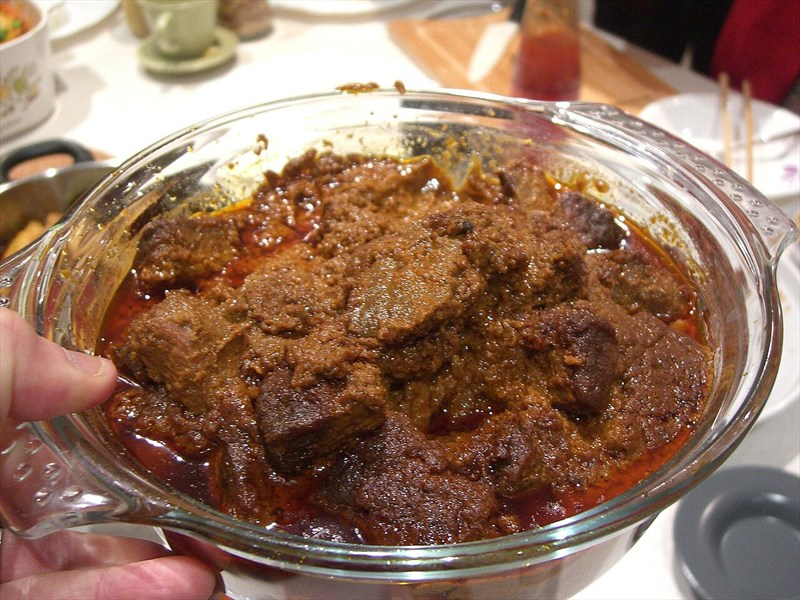Rendang: (72, 64, 718, 561)
